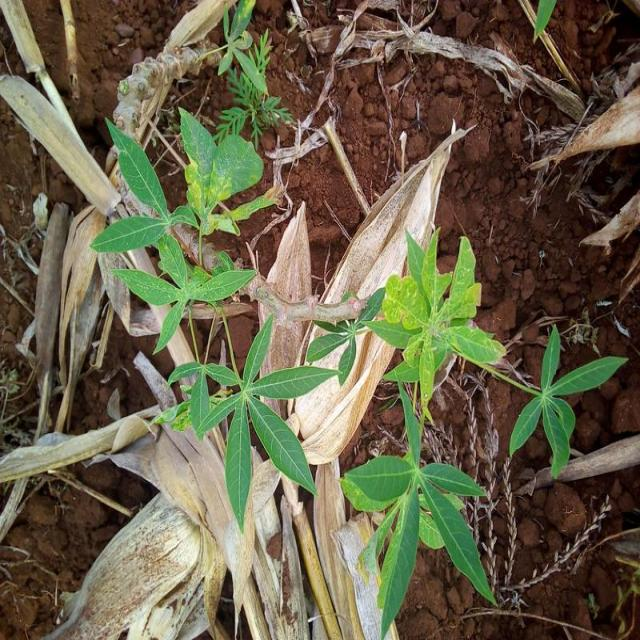cassava leaf: (288, 117, 479, 466)
